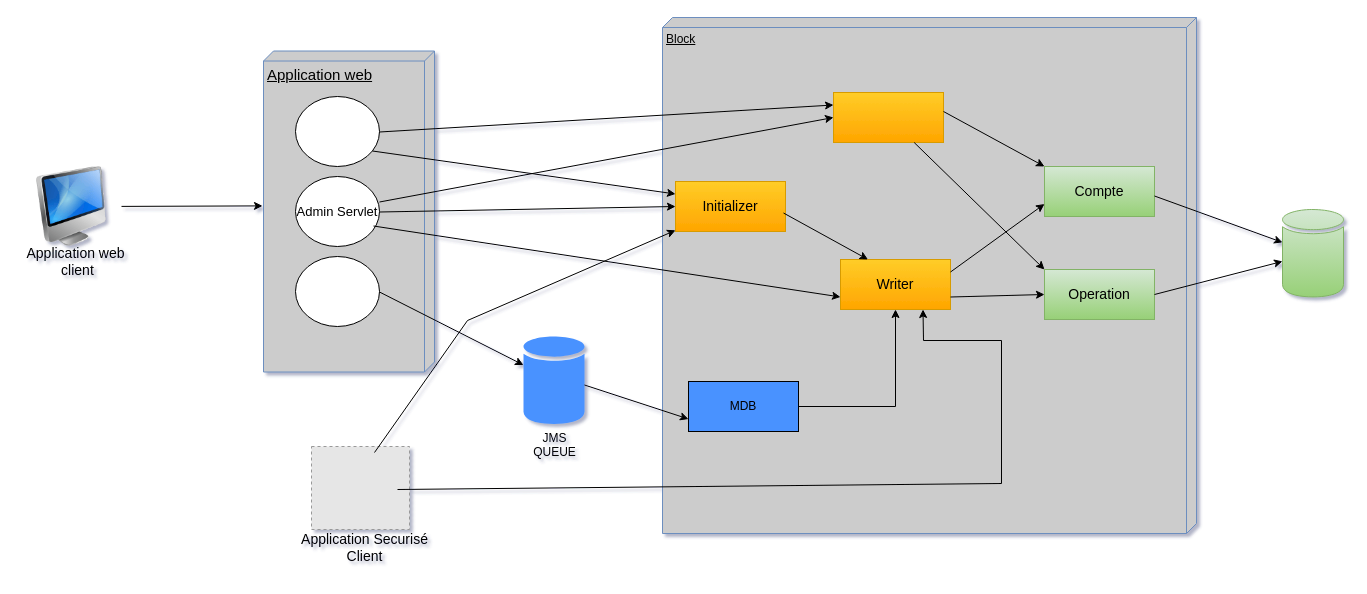
Image size: 1367x594. Some labels were removed from this diagram. Grey dashed boxes stand in for pictures. Here are the shapes that lost their labels. From the top down, the centre of each, then its label:
point (337, 131): Liste Compte Servlet
point (888, 117): Reader
point (1313, 253): dataBase
point (337, 291): MdbServlet
